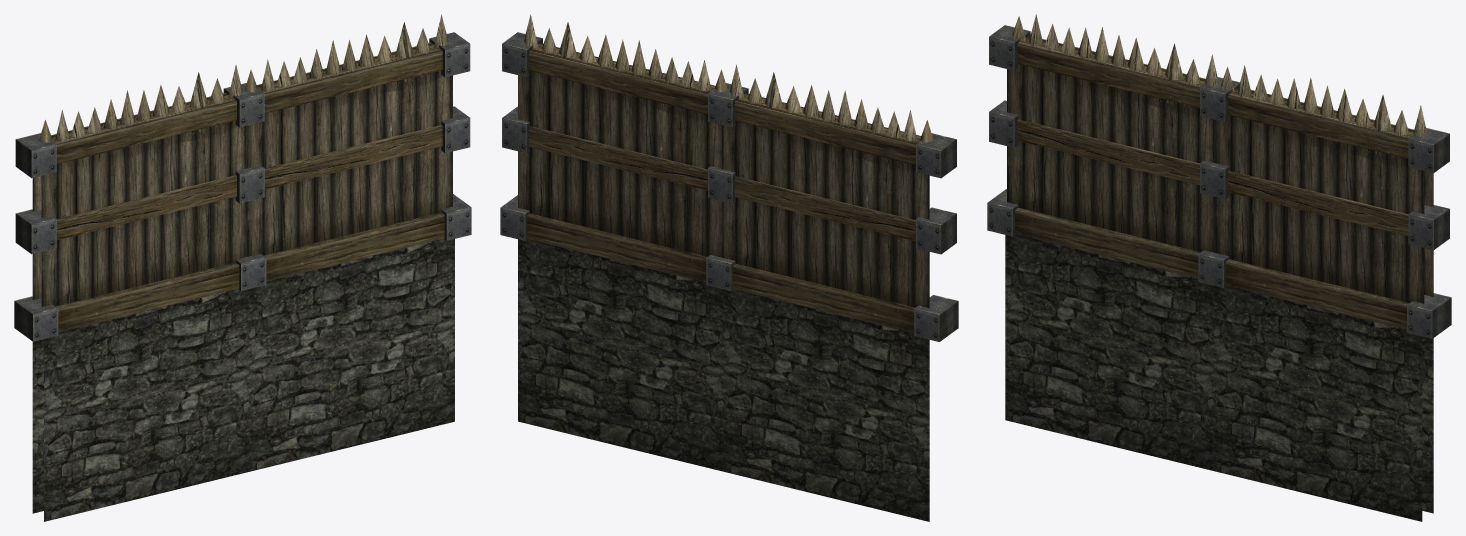
Rendered from fortms_fence_body02.fbx.
The picture shows the model from 3 angles, left to right: view 1: azimuth 30°, elevation 25°; view 2: azimuth 150°, elevation 25°; view 3: azimuth 330°, elevation 25°; orthographic projection.
Visible parts, largest first — view 1: fortMS_fence_body02; view 2: fortMS_fence_body02; view 3: fortMS_fence_body02.
Part boxes in pixels (box(x1,y1,x2,y2)): fortMS_fence_body02: box(14, 14, 471, 521); fortMS_fence_body02: box(500, 14, 958, 521); fortMS_fence_body02: box(987, 14, 1451, 521).
Bounding box in the file's own units: 10.48 × 9.28 × 0.7823.
